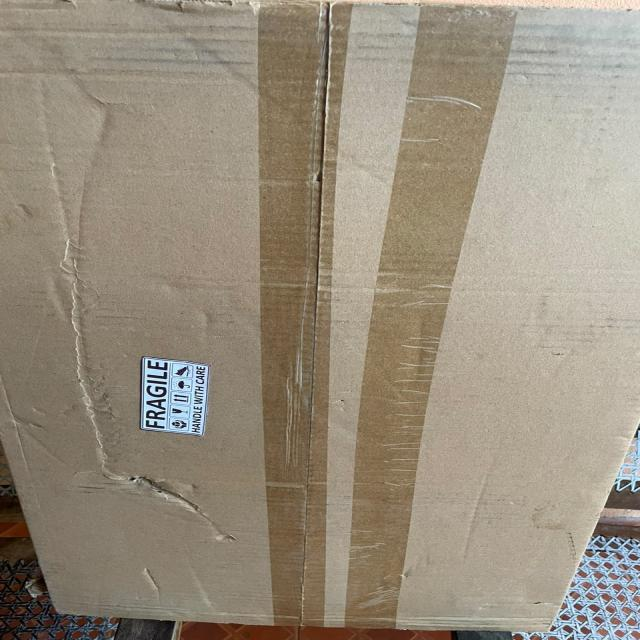fragile_label: (122, 344, 230, 444)
protect_from_heat_label: (102, 454, 233, 545)
